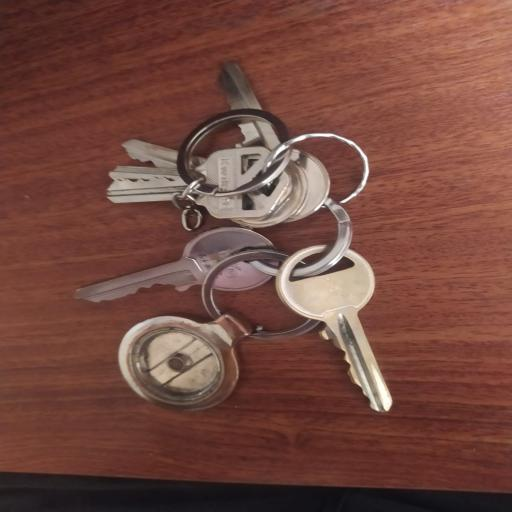Llaves: (68, 54, 404, 422)
